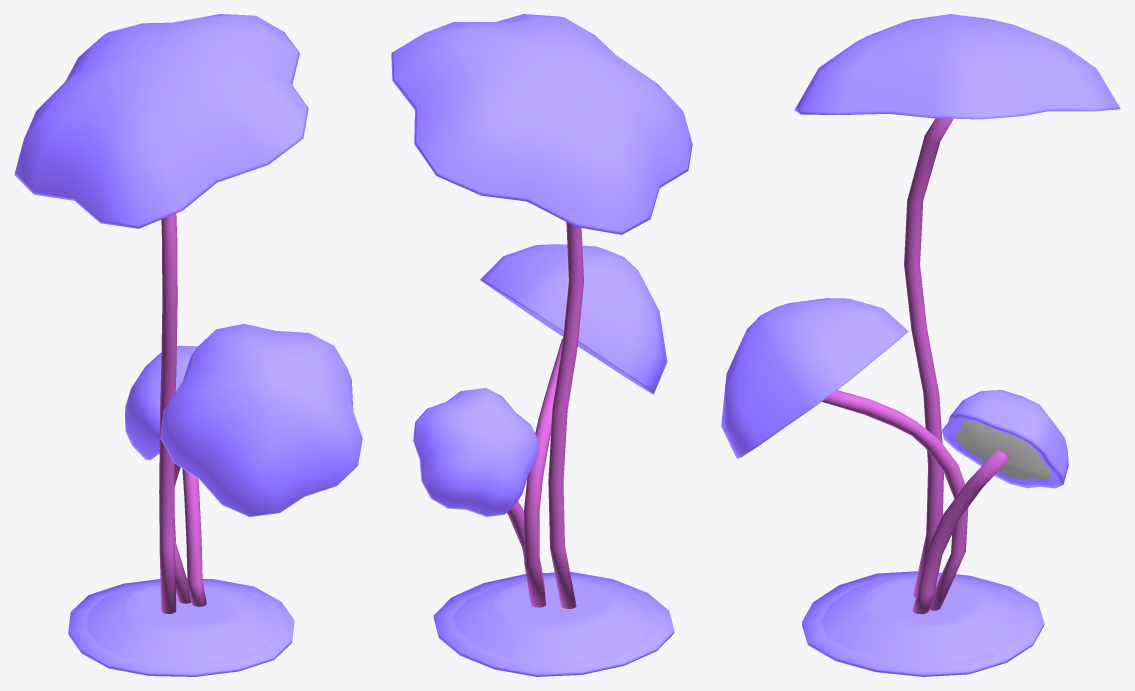
The model's file is Lamp_G_002.fbx.
3 renders of one model, left to right at view 1: azimuth 30°, elevation 25°; view 2: azimuth 150°, elevation 25°; view 3: azimuth 270°, elevation 25°, orthographic. The views are drawn at different scales.
Visible parts, largest first — view 1: BAse; view 2: BAse; view 3: BAse.
Boxes of the visible parts, x1,y1,x2,y2 form: BAse: (14, 14, 362, 676); BAse: (391, 14, 692, 676); BAse: (721, 14, 1120, 676).
Bounding box in the file's own units: 725 × 553 × 1219.
